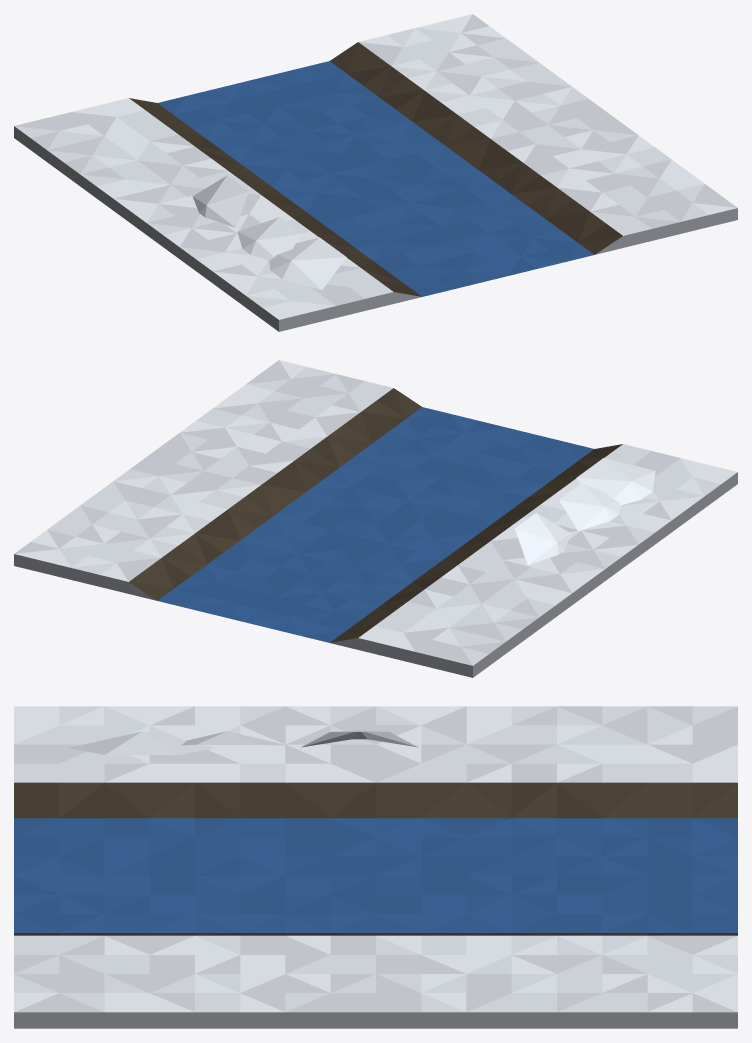
Rendered from river_straight_snow.glb.
3 renders of one model, top to bottom at view 1: azimuth 30°, elevation 25°; view 2: azimuth 150°, elevation 25°; view 3: azimuth 270°, elevation 25°, orthographic. The views are drawn at different scales.
Parts seen in each view (by area): view 1: river_straight_snow; view 2: river_straight_snow; view 3: river_straight_snow.
Boxes of the visible parts, <box> form: river_straight_snow: <box>14,14,737,331</box>; river_straight_snow: <box>14,360,737,677</box>; river_straight_snow: <box>14,706,737,1028</box>.
Size of the model in its own units: 4 by 0.3846 by 4.
